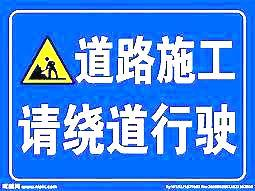sign: (8, 7, 249, 182)
